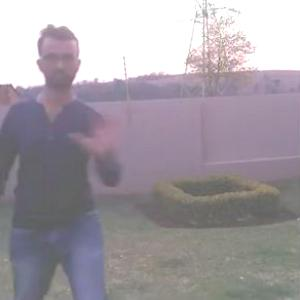follow_hand: (71, 106, 125, 161)
